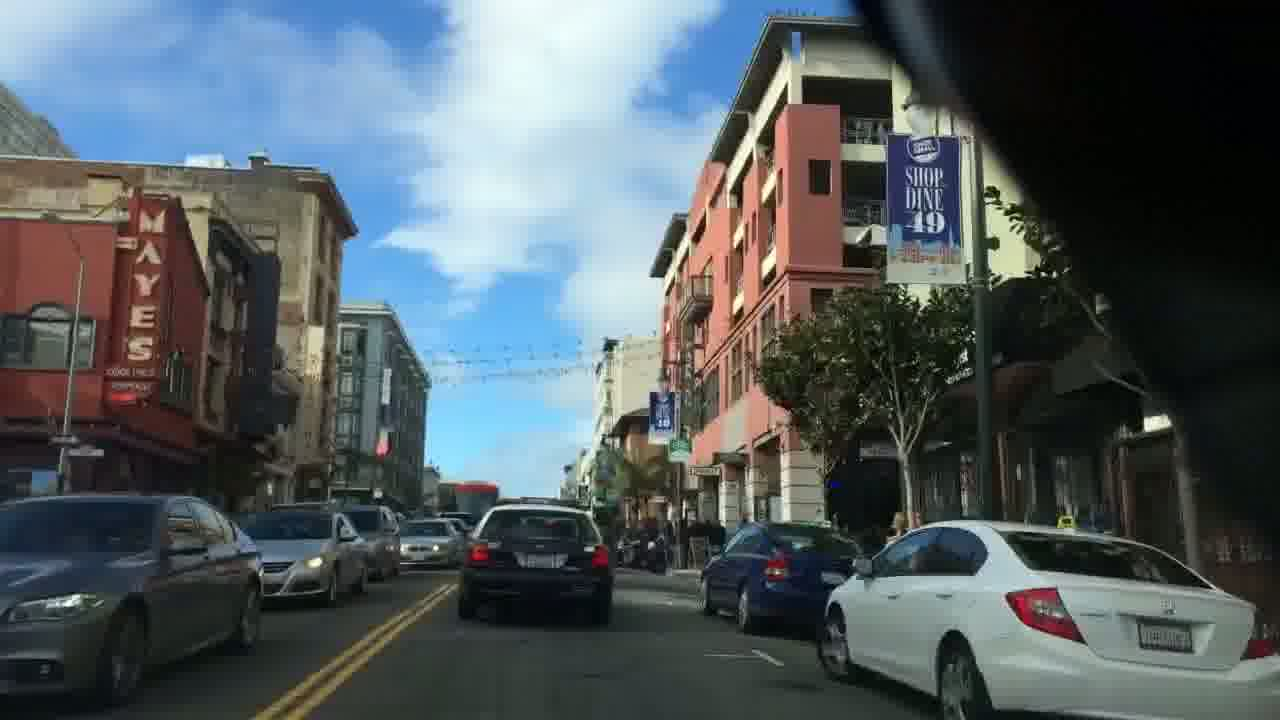car: (815, 518, 1280, 720), (0, 489, 266, 704), (458, 502, 615, 621), (698, 519, 860, 633), (239, 505, 371, 607), (397, 516, 463, 567)
pedestrian: (884, 510, 908, 545)
